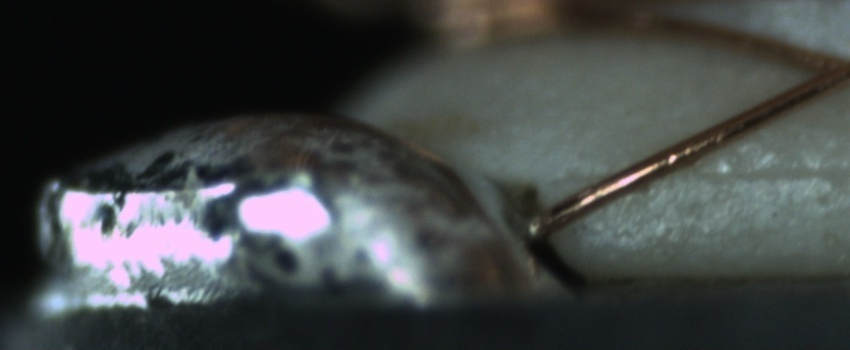CL: (781, 35, 847, 105)
DL: (605, 140, 849, 207)
